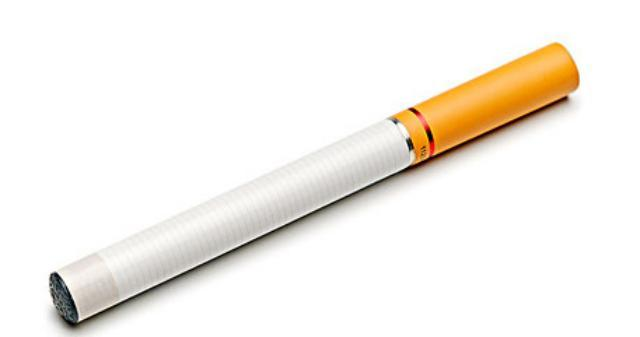Smoking: (47, 41, 581, 327)
